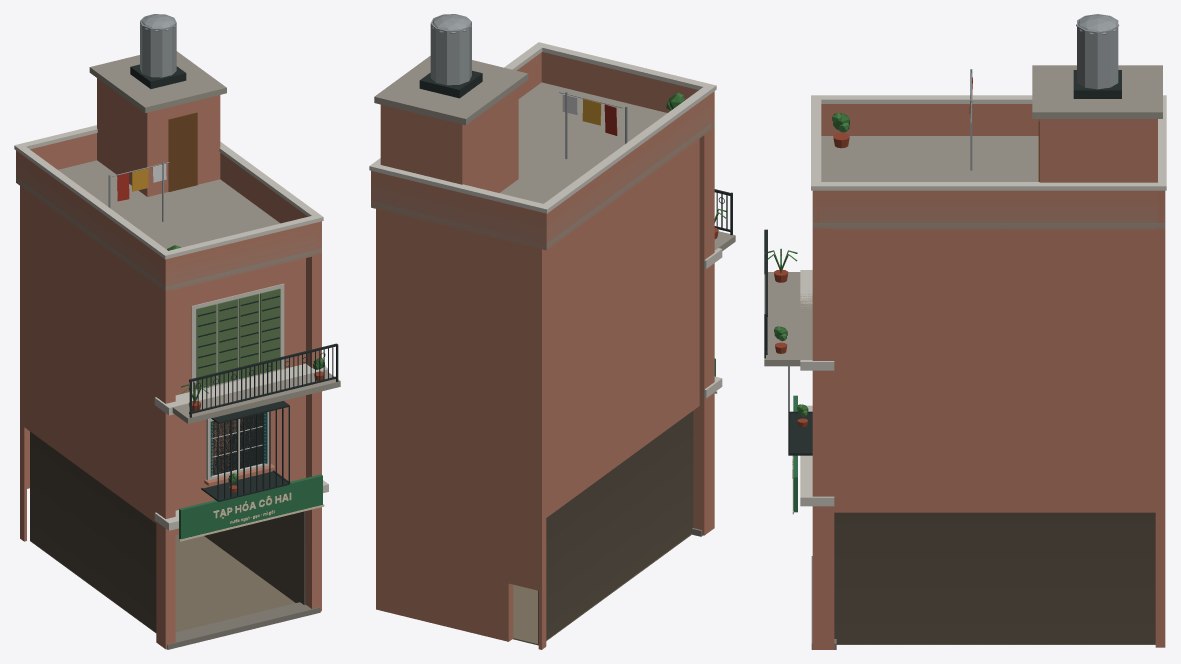
Rendered from tap_hoa.glb.
3 renders of one model, left to right at view 1: azimuth 30°, elevation 25°; view 2: azimuth 150°, elevation 25°; view 3: azimuth 270°, elevation 25°, orthographic. The views are drawn at different scales.
Parts seen in each view (by area): view 1: tap_hoa; view 2: tap_hoa; view 3: tap_hoa.
Part boxes in pixels (box(x1,y1,x2,y2)): tap_hoa: box(14, 14, 340, 649); tap_hoa: box(369, 14, 735, 649); tap_hoa: box(764, 14, 1166, 649).
Bounding box in the file's own units: 4.5 × 13.88 × 8.33.
